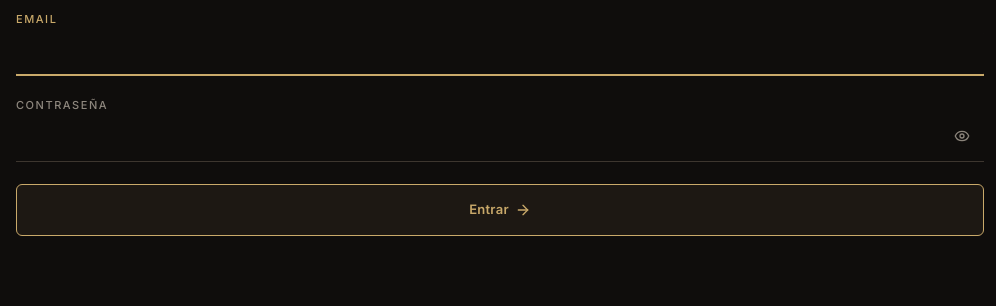
Test: formulario de login › sin cabecera Retry-After no se inventa ninguna cuenta atrás
The image size is (996, 306).
In the field labelled "Email": (500, 54) [16,32,984,76], type "james@jamesfilm.pe"
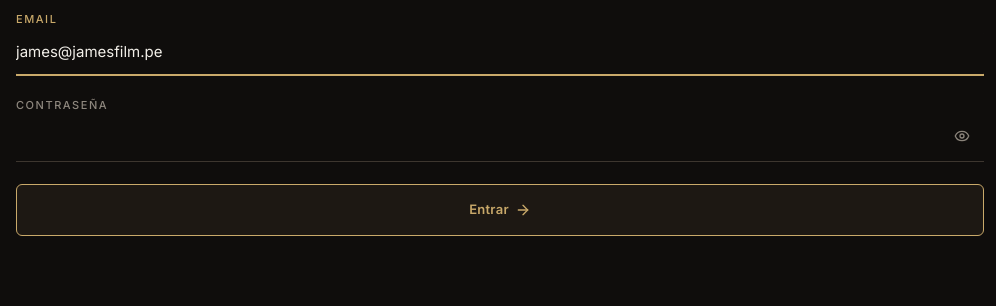
In the password field labelled "Contraseña": (500, 140) [16,118,984,162], type "una-clave-larga"
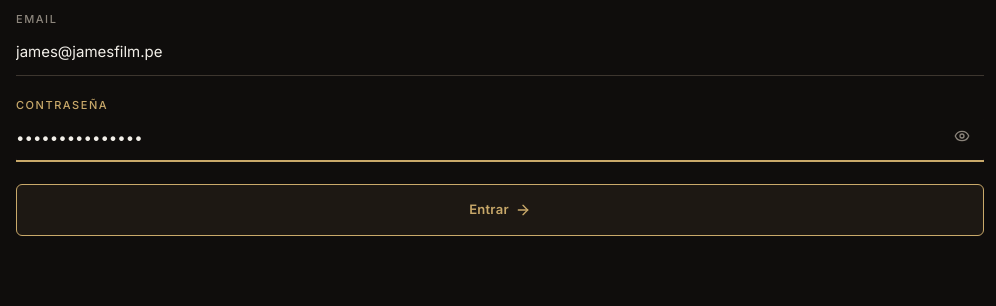
Click the button "Entrar": (500, 210) [16,184,984,236]
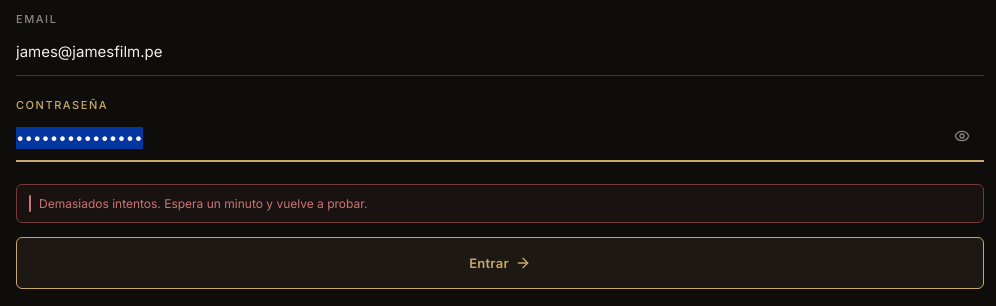
Expected: the button "Entrar" is enabled, [16,237,984,289]
Now the text "Demasiados intentos. Espera un minuto y vuelve a probar." is shown, box [16,184,984,223]
